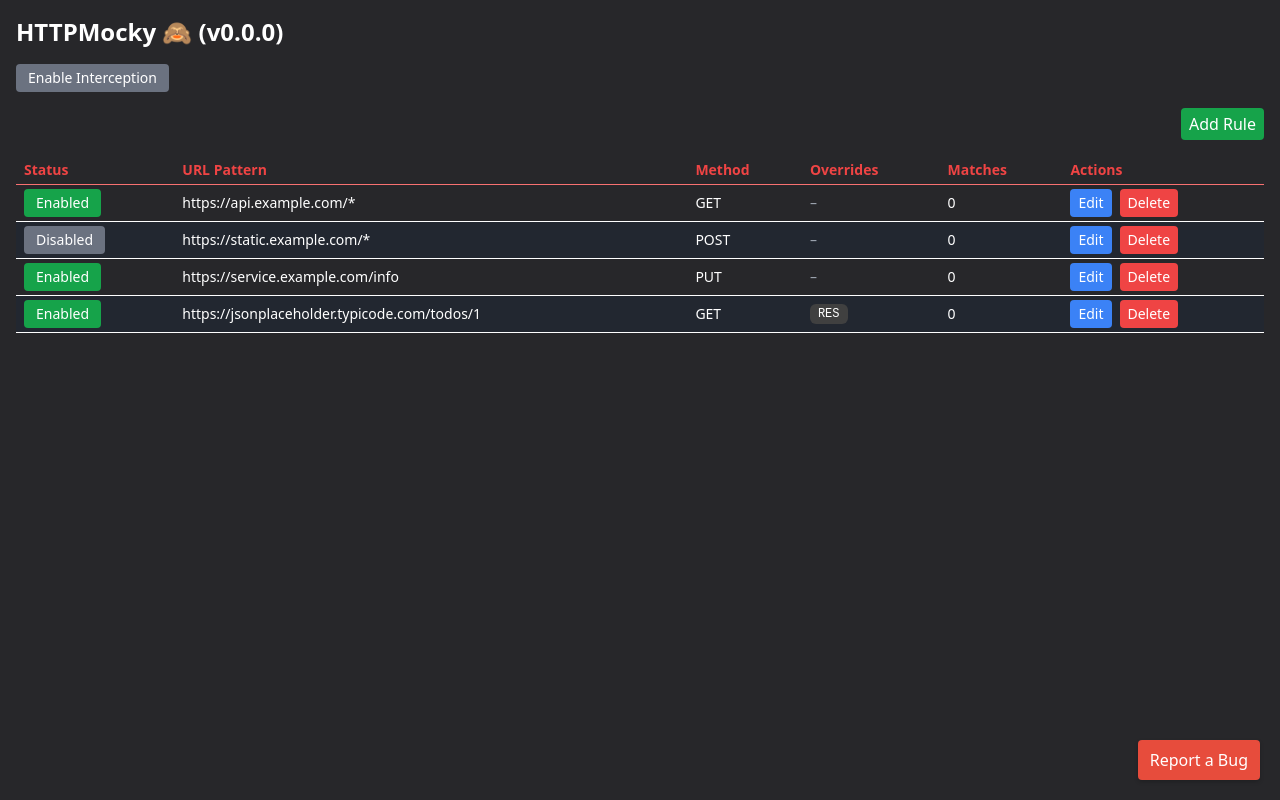
<App /> › toggles interception button
The width and height of the screenshot is (1280, 800).
Click the button "Enable Interception": (92, 78) [16,64,169,92]
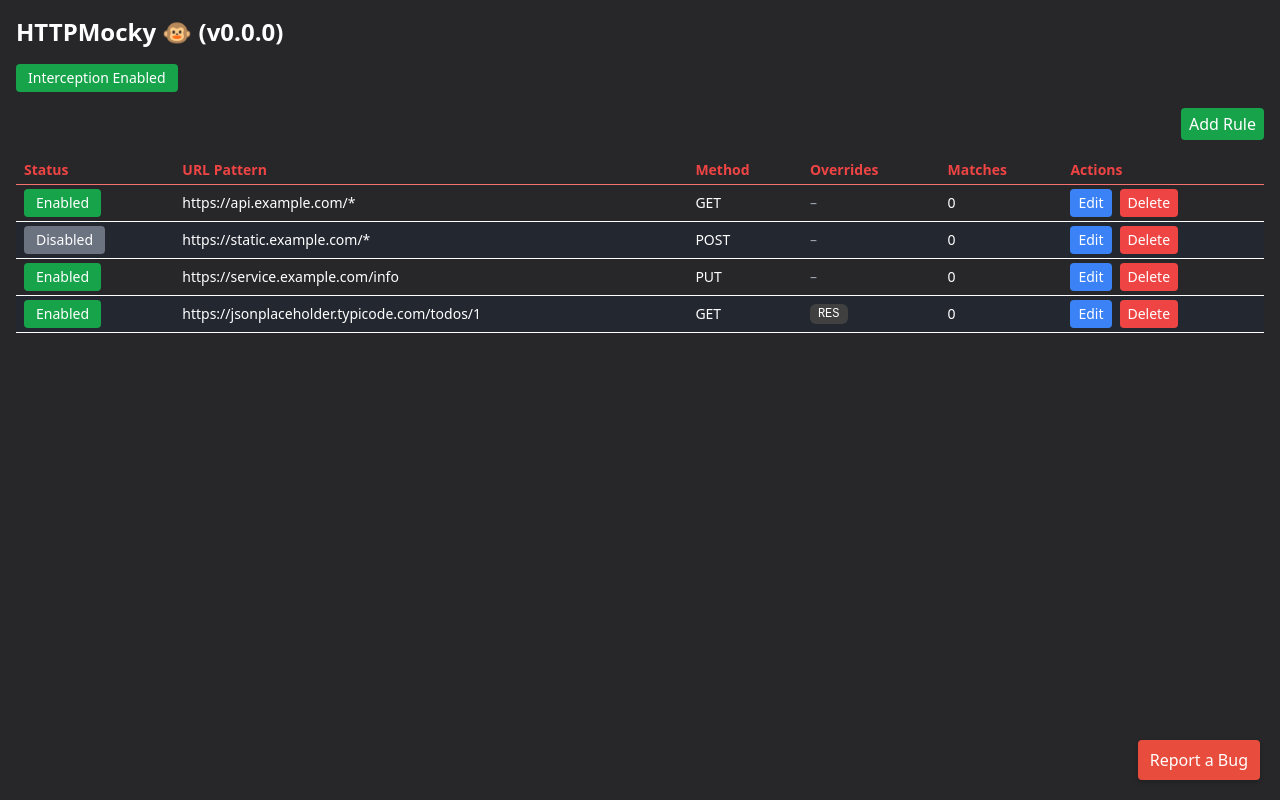
Check: the button "Interception Enabled" is shown, box [16,64,178,92]
